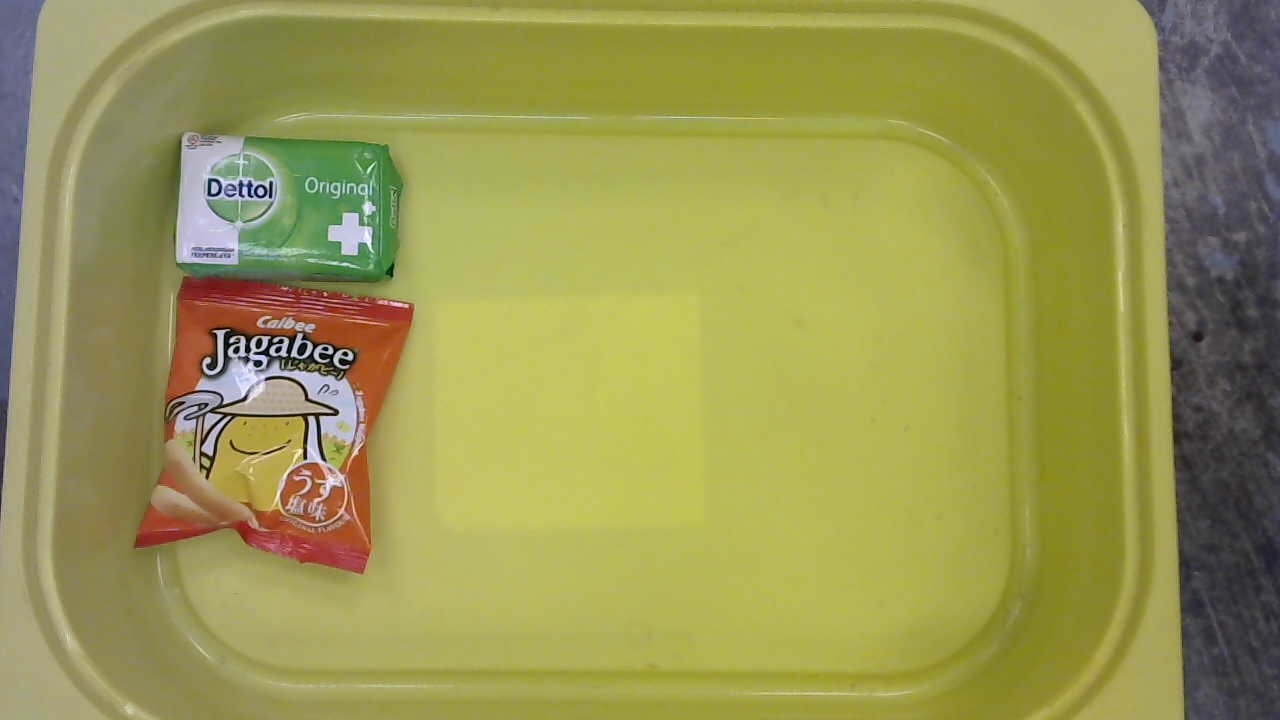Dettol: (164, 127, 403, 285)
JagabeeFarmer: (132, 281, 416, 584)
